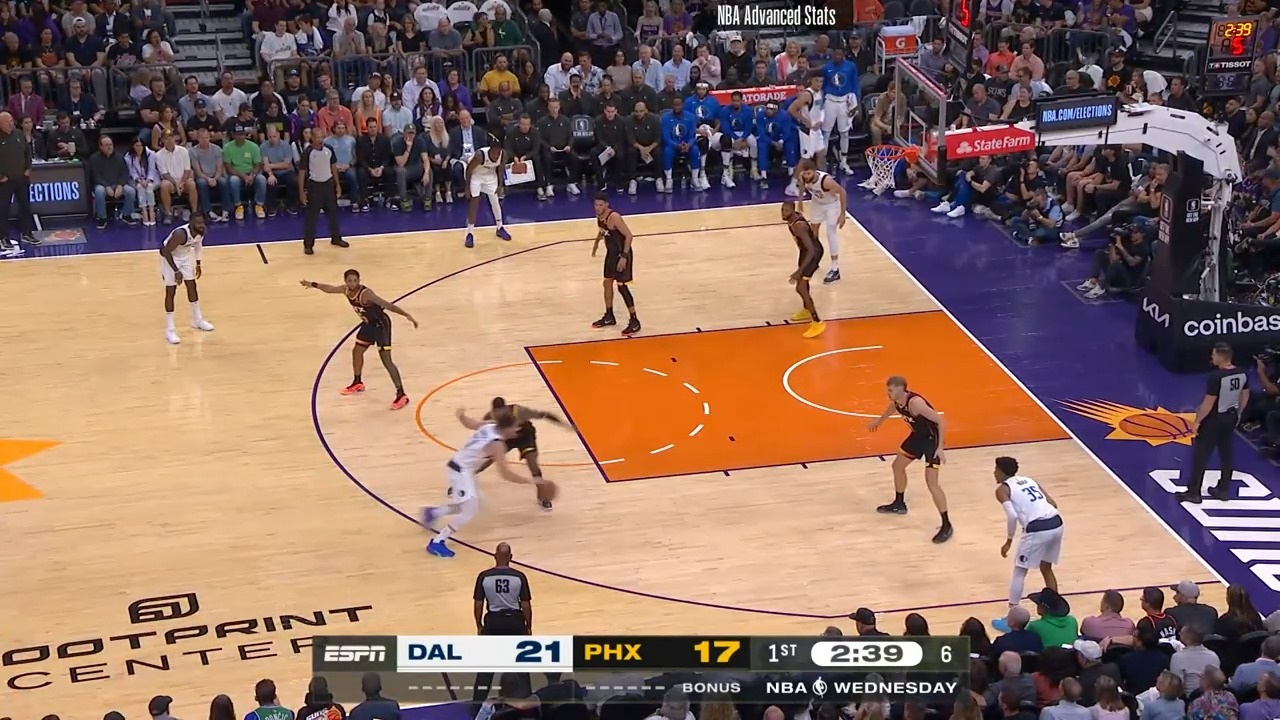net: (852, 140, 923, 194)
player: (408, 390, 548, 564), (312, 268, 424, 415), (864, 375, 951, 547), (986, 454, 1067, 635), (151, 210, 216, 348), (580, 193, 640, 340), (770, 200, 834, 335), (799, 160, 854, 301), (459, 138, 508, 254)
referee: (1186, 345, 1249, 499), (464, 538, 536, 635), (302, 129, 350, 258)
